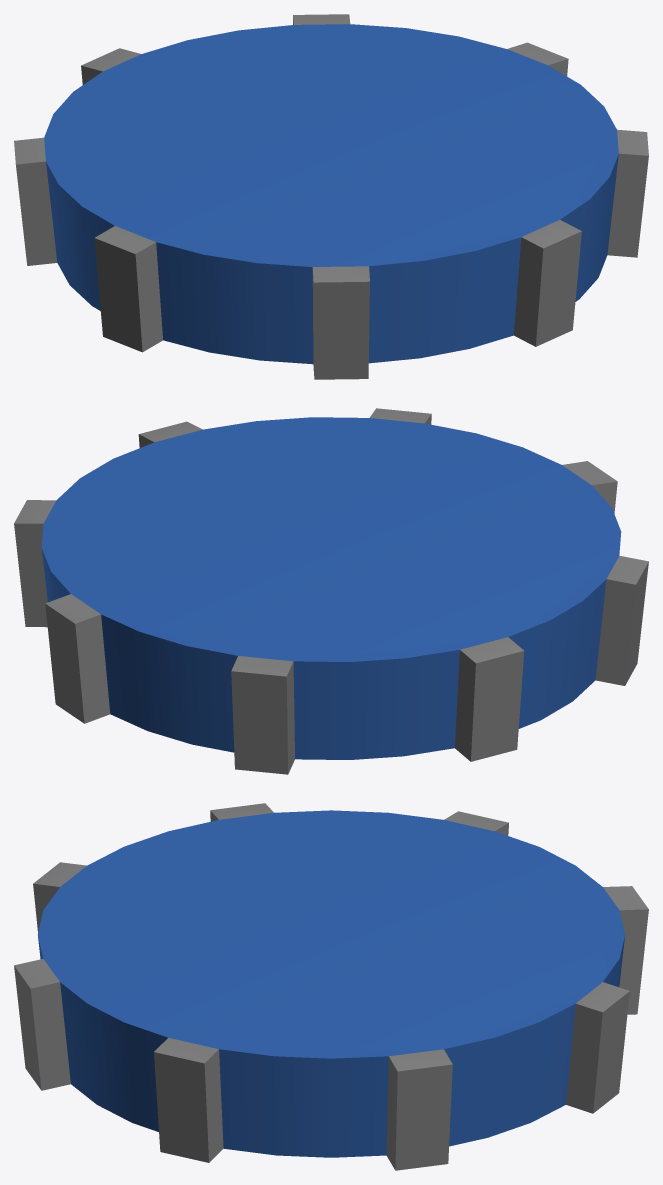
The model's file is middle1.glb.
3 renders of one model, top to bottom at view 1: azimuth 30°, elevation 25°; view 2: azimuth 150°, elevation 25°; view 3: azimuth 270°, elevation 25°, orthographic.
Parts seen in each view (by area): view 1: middle; view 2: middle; view 3: middle.
Part boxes in pixels (x1=…): middle: x1=14, y1=14, x2=648, y2=379; middle: x1=14, y1=408, x2=648, y2=774; middle: x1=14, y1=803, x2=648, y2=1170.
Size of the model in its own units: 0.2771 by 0.0515 by 0.2771.
